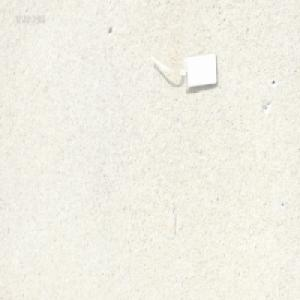LuggageTag: (148, 49, 219, 90)
